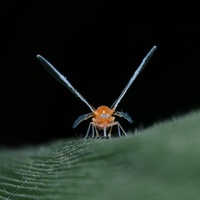insect: (36, 45, 156, 137)
